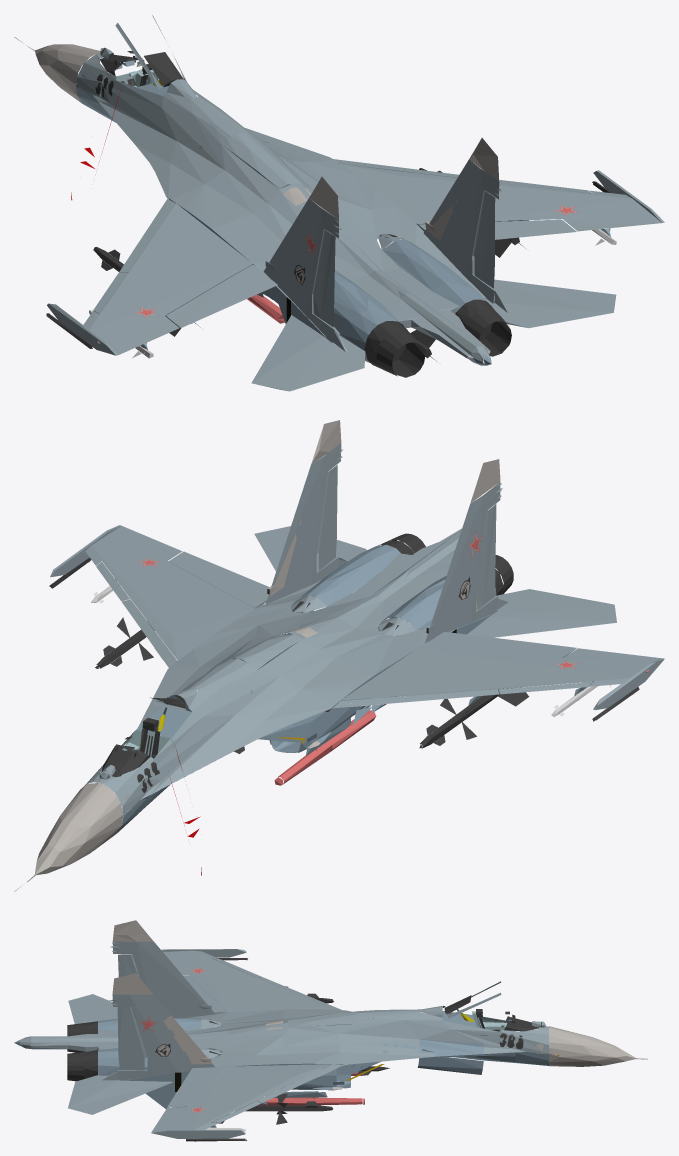
The picture shows the model from 3 angles, top to bottom: view 1: azimuth 30°, elevation 25°; view 2: azimuth 150°, elevation 25°; view 3: azimuth 270°, elevation 25°; orthographic projection. The views are drawn at different scales.
Parts seen in each view (by area): view 1: body; view 2: body; view 3: body.
Boxes of the visible parts, bbox=[...] form: body: bbox=[14, 15, 664, 391]; body: bbox=[14, 420, 664, 891]; body: bbox=[14, 920, 647, 1141].
Size of the model in its own units: 14.53 by 5.63 by 21.9.
